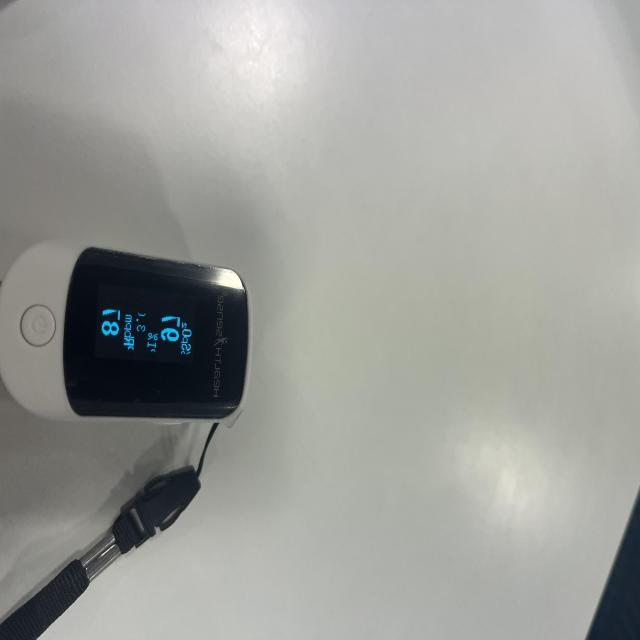spo2: (0, 239, 249, 640)
